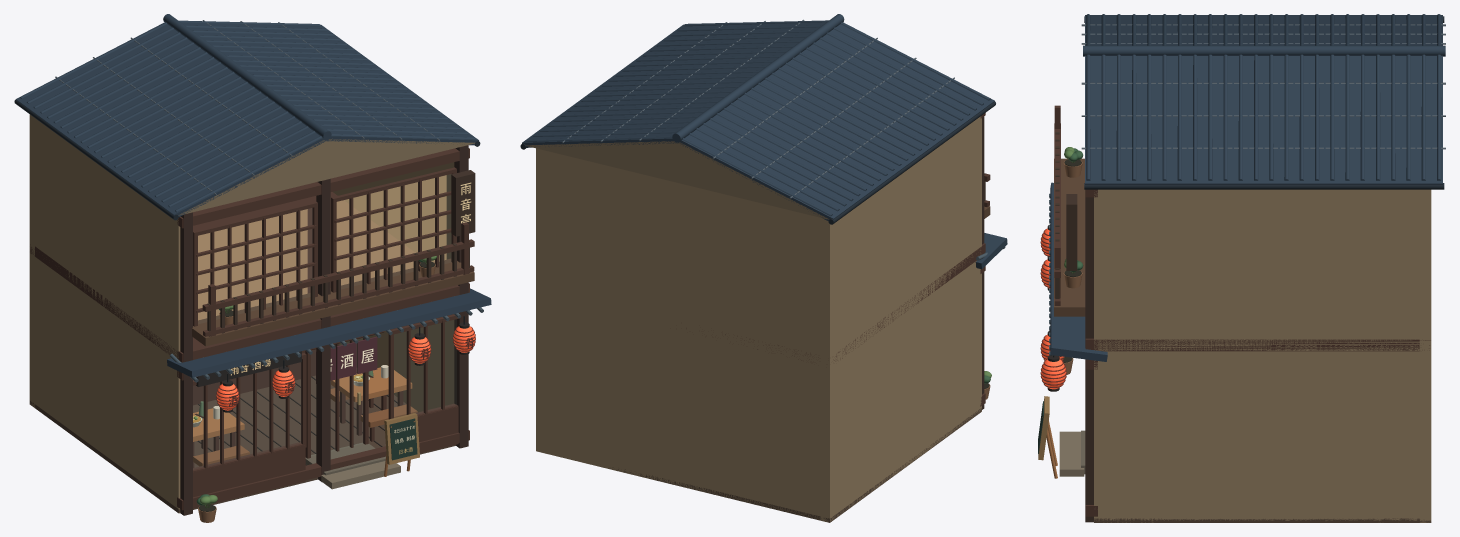
File: izakaya.glb
3 renders of one model, left to right at view 1: azimuth 30°, elevation 25°; view 2: azimuth 150°, elevation 25°; view 3: azimuth 270°, elevation 25°, orthographic. The views are drawn at different scales.
Parts seen in each view (by area): view 1: 雨音居酒屋; view 2: 雨音居酒屋; view 3: 雨音居酒屋.
Part boxes in pixels (<box>): 雨音居酒屋: <box>14,14,491,522</box>; 雨音居酒屋: <box>520,14,1007,522</box>; 雨音居酒屋: <box>1038,14,1445,522</box>.
Size of the model in its own units: 6.19 by 6.76 by 6.32.
Materials: 67 (14 with a texture image).
